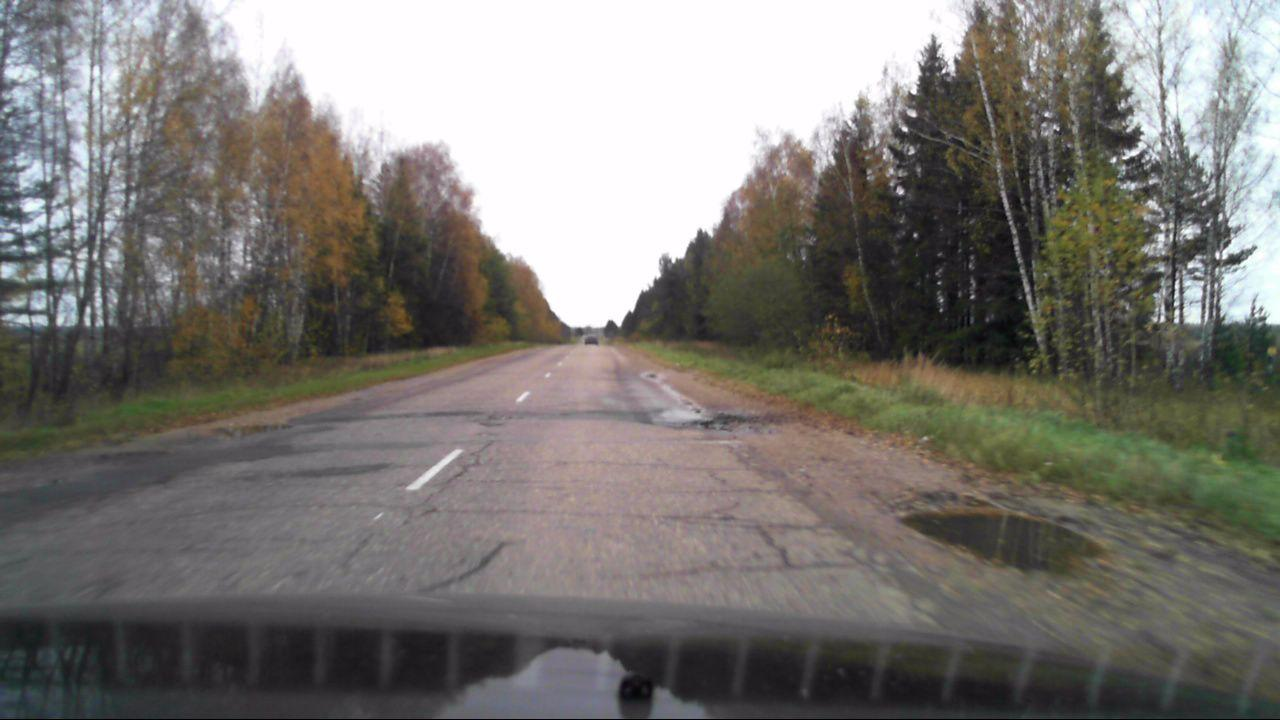pothole: (885, 475, 1100, 592)
